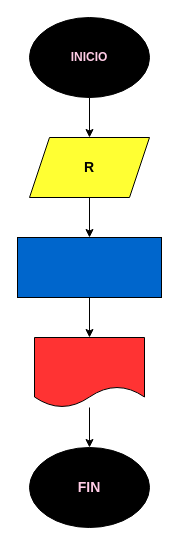
This 179x545 diagram has some shape labels left out. Here are the shapes that lost their labels. From the top down, the centre of each, then its label:
At point 89,267: "A= PI*R 2 P=2*PIR".
At point 89,372: "A , P".
